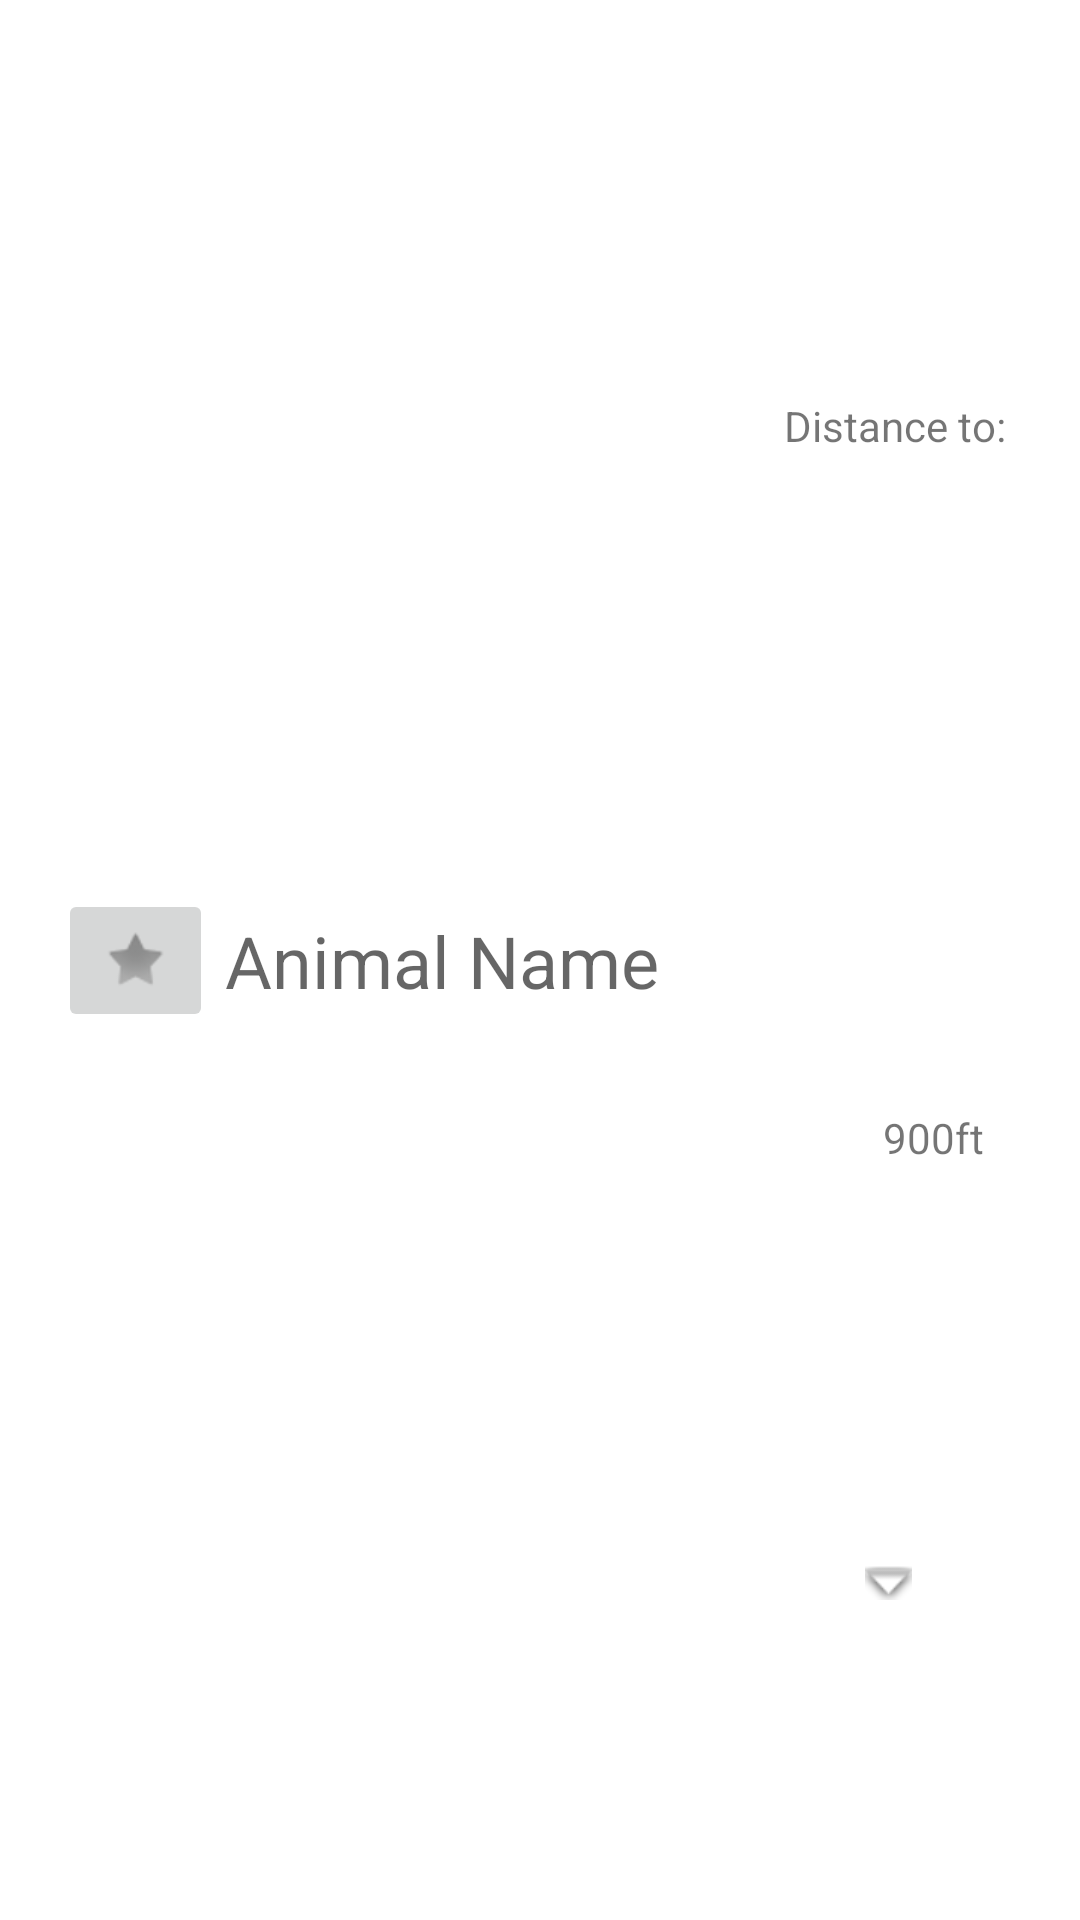

Icon bounding boxes for this 1080px×1920px phone screenshot, format (x1, y1, x2, y2):
arrow down float: (865, 1567, 912, 1599)
star off: (70, 907, 201, 1014)
